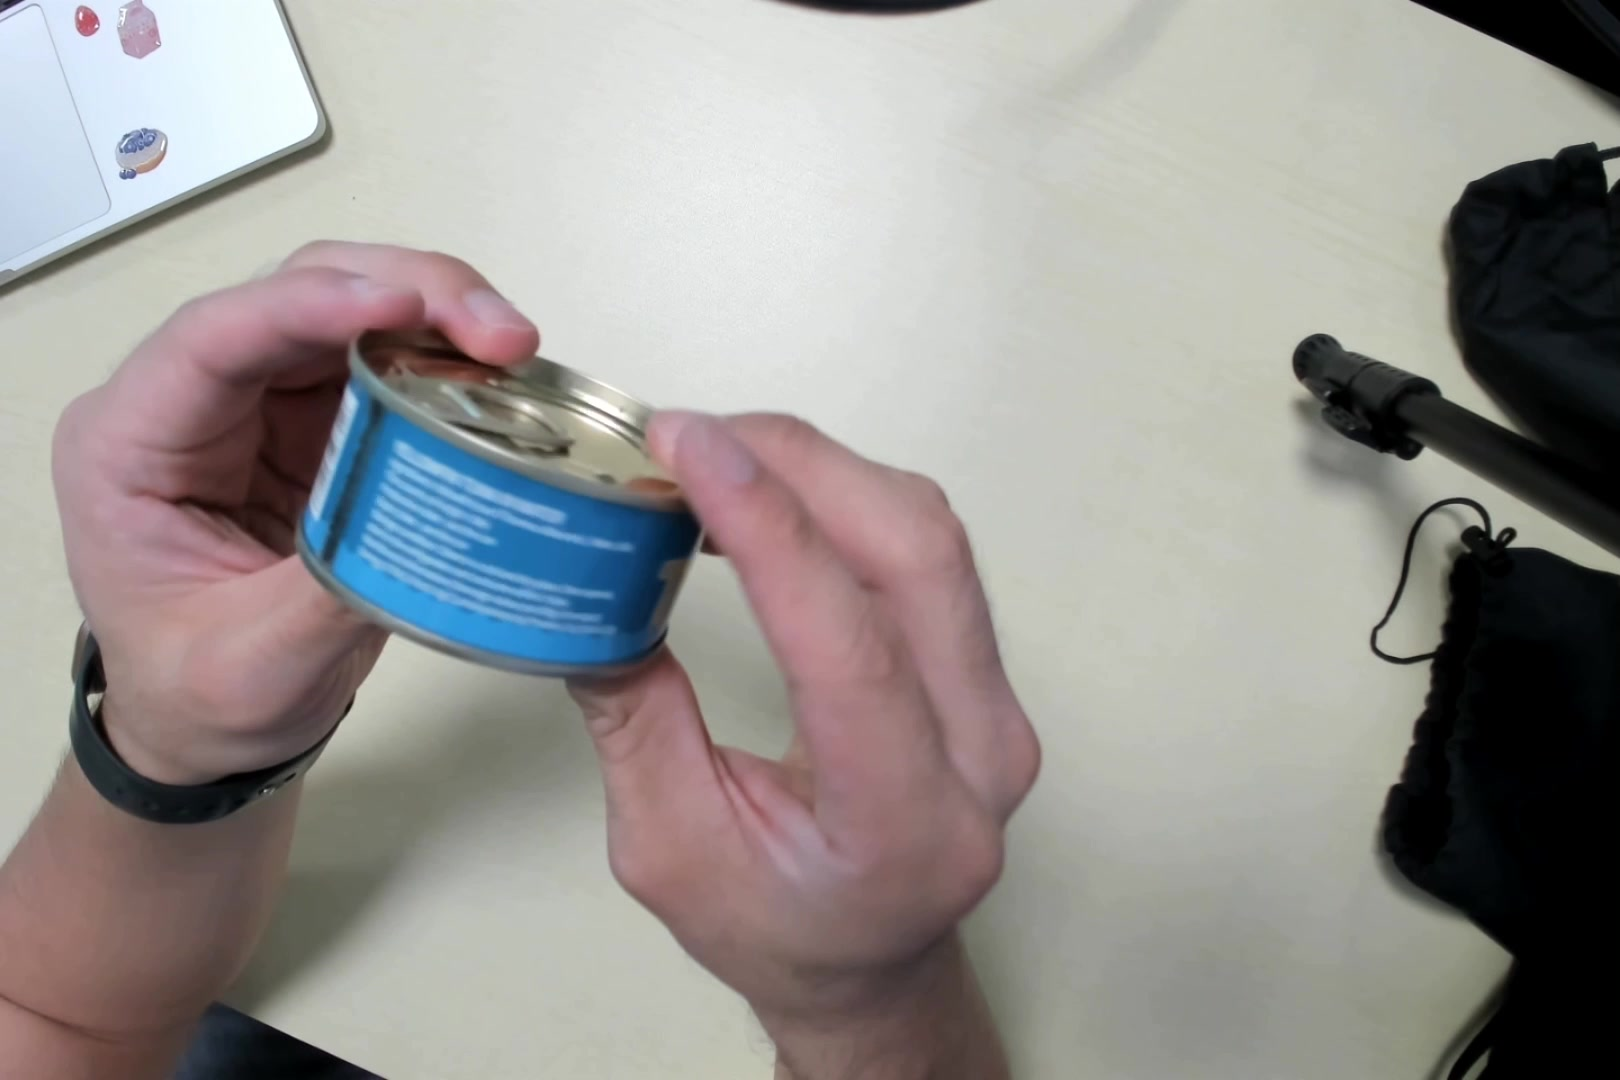CannedTunaDace_0-99g_NonHalal_NonHealthy: (298, 344, 716, 680)
